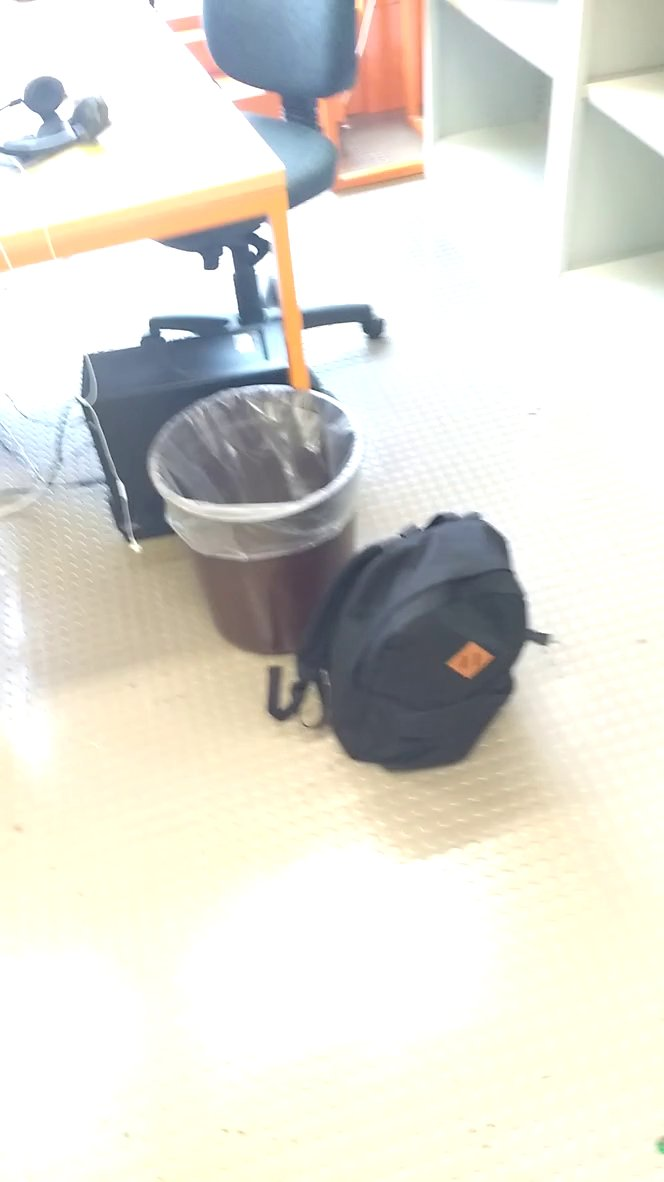bag: (263, 502, 559, 781)
bin: (140, 370, 381, 667)
chair: (129, 1, 401, 353)
